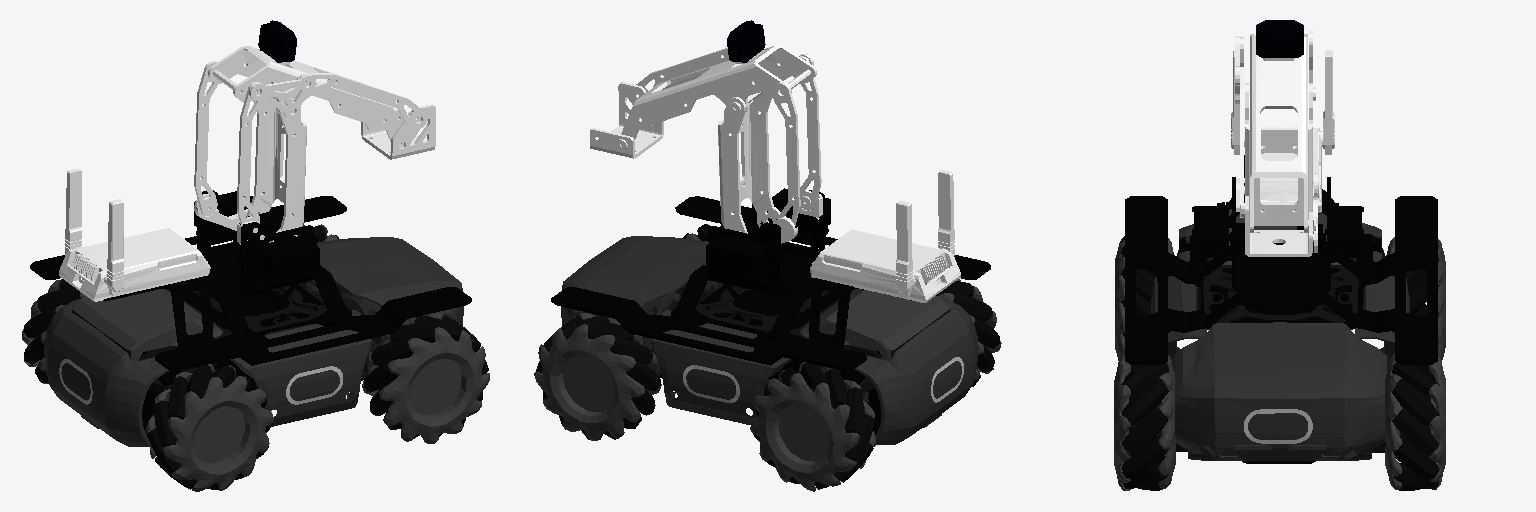
--- What the picture shows (computed from the rendered views, not written in the file) ---
The picture shows the robot from 3 angles, left to right: view 1: azimuth 30°, elevation 25°; view 2: azimuth 150°, elevation 25°; view 3: azimuth 270°, elevation 25°; orthographic projection.
Robot: RoboMaster — 21 links, 20 joints (3 revolute, 13 continuous, 4 fixed); root link robot_base; default pose: all joints at 0.
Visible links, largest first — view 1: robot_base, front_right_wheel_link_respondable, rear_right_wheel_link_respondable, extension_base_link_respondable, arm_base_link_respondable, intelligent_controller_link_respondable, arm_1_link_respondable, arm_2_link_respondable, rear_left_wheel_link_respondable, endpoint_bracket_link_respondable, rod_3_link_respondable, rod_1_link_respondable (+3 smaller); view 2: robot_base, rear_left_wheel_link_respondable, extension_base_link_respondable, front_left_wheel_link_respondable, arm_base_link_respondable, intelligent_controller_link_respondable, arm_2_link_respondable, arm_1_link_respondable, rear_right_wheel_link_respondable, endpoint_bracket_link_respondable, rod_3_link_respondable, rod_2_link_respondable (+2 smaller); view 3: robot_base, extension_base_link_respondable, arm_base_link_respondable, front_right_wheel_link_respondable, front_left_wheel_link_respondable, arm_2_link_respondable, arm_1_link_respondable, intelligent_controller_link_respondable, endpoint_bracket_link_respondable, rear_right_wheel_link_respondable, rear_left_wheel_link_respondable, camera_link_visual (+1 smaller).
Boxes of the visible links, left/top/right/bottom form: robot_base: left=44, top=237, right=463, bottom=446; front_right_wheel_link_respondable: left=362, top=313, right=489, bottom=443; rear_right_wheel_link_respondable: left=146, top=364, right=273, bottom=491; extension_base_link_respondable: left=30, top=196, right=471, bottom=370; arm_base_link_respondable: left=194, top=190, right=351, bottom=340; intelligent_controller_link_respondable: left=59, top=168, right=210, bottom=301; arm_1_link_respondable: left=246, top=98, right=306, bottom=242; arm_2_link_respondable: left=208, top=46, right=403, bottom=147; rear_left_wheel_link_respondable: left=22, top=279, right=85, bottom=383; endpoint_bracket_link_respondable: left=361, top=104, right=435, bottom=159; rod_3_link_respondable: left=194, top=61, right=217, bottom=215; rod_1_link_respondable: left=297, top=73, right=427, bottom=128; robot_base: left=561, top=236, right=978, bottom=444; rear_left_wheel_link_respondable: left=750, top=362, right=875, bottom=491; extension_base_link_respondable: left=551, top=196, right=990, bottom=370; front_left_wheel_link_respondable: left=534, top=313, right=661, bottom=440; arm_base_link_respondable: left=671, top=188, right=830, bottom=340; intelligent_controller_link_respondable: left=810, top=170, right=960, bottom=302; arm_2_link_respondable: left=621, top=45, right=816, bottom=139; arm_1_link_respondable: left=718, top=95, right=787, bottom=233; rear_right_wheel_link_respondable: left=936, top=279, right=1001, bottom=386; endpoint_bracket_link_respondable: left=590, top=82, right=663, bottom=158; rod_3_link_respondable: left=773, top=82, right=800, bottom=225; rod_2_link_respondable: left=800, top=56, right=821, bottom=210; robot_base: left=1133, top=209, right=1422, bottom=463; extension_base_link_respondable: left=1125, top=155, right=1437, bottom=364; arm_base_link_respondable: left=1189, top=177, right=1373, bottom=328; front_right_wheel_link_respondable: left=1114, top=355, right=1175, bottom=490; front_left_wheel_link_respondable: left=1385, top=354, right=1445, bottom=490; arm_2_link_respondable: left=1250, top=34, right=1315, bottom=232; arm_1_link_respondable: left=1230, top=83, right=1312, bottom=254; intelligent_controller_link_respondable: left=1231, top=50, right=1334, bottom=212; endpoint_bracket_link_respondable: left=1245, top=196, right=1315, bottom=256; rear_right_wheel_link_respondable: left=1115, top=236, right=1173, bottom=360; rear_left_wheel_link_respondable: left=1386, top=237, right=1445, bottom=360; camera_link_visual: left=1256, top=20, right=1303, bottom=57.
Size in the robot's own frame: 0.3333 by 0.2456 by 0.341 metres.
Meshes: 52 distinct files referenced, 52 mesh visuals loaded (52 Collada DAE).

The robot description file, URDF, robot "RoboMaster":
<?xml version="1.0"?>
<robot name="RoboMaster">
    <link name="robot_base">
        <inertial>
            <origin xyz="-0.355513 0.124679 0.066029" rpy="-0.000000 -1.570796 0.000000" />
            <inertia ixx="0.017589308201487" ixy="-7.7439198790158e-07" ixz="-4.6110514572507e-05" iyy="0.0051199987327979" iyz="-3.7897668285013e-06" izz="0.01451068068707" />
            <mass value="1.9340000152588" />
        </inertial>
        <collision name="RoboMaster">
            <origin xyz="-0.350000 0.125000 0.067444" rpy="0.000000 -1.570796 0.000000" />
            <geometry>
                <mesh filename="./robomaster_ep_robot_base_coll_1.dae" />
            </geometry>
        </collision>
        <visual name="base_link_visual">
            <origin xyz="-0.350000 0.123093 0.071201" rpy="-0.023726 4.701310 -3.118698" />
            <geometry>
                <mesh filename="./robomaster_ep_base_link_visual_vis_1.dae" />
            </geometry>
            <material name="base_link_visual_material">
                <color rgba="0.227713 0.227713 0.227713 1.0" />
            </material>
        </visual>
        <visual name="base_link_visual">
            <origin xyz="-0.350000 0.123093 0.071201" rpy="-0.023726 4.701310 -3.118698" />
            <geometry>
                <mesh filename="./robomaster_ep_base_link_visual_vis_2.dae" />
            </geometry>
            <material name="base_link_visual_material">
                <color rgba="0.028175 0.028175 0.028175 1.0" />
            </material>
        </visual>
        <visual name="base_link_visual">
            <origin xyz="-0.350000 0.123093 0.071201" rpy="-0.023726 4.701310 -3.118698" />
            <geometry>
                <mesh filename="./robomaster_ep_base_link_visual_vis_3.dae" />
            </geometry>
            <material name="base_link_visual_material">
                <color rgba="0.028175 0.028175 0.028175 1.0" />
            </material>
        </visual>
        <visual name="base_link_visual">
            <origin xyz="-0.350000 0.123093 0.071201" rpy="-0.023726 4.701310 -3.118698" />
            <geometry>
                <mesh filename="./robomaster_ep_base_link_visual_vis_4.dae" />
            </geometry>
            <material name="base_link_visual_material">
                <color rgba="0.028175 0.028175 0.028175 1.0" />
            </material>
        </visual>
        <visual name="base_link_visual">
            <origin xyz="-0.350000 0.123093 0.071201" rpy="-0.023726 4.701310 -3.118698" />
            <geometry>
                <mesh filename="./robomaster_ep_base_link_visual_vis_5.dae" />
            </geometry>
            <material name="base_link_visual_material">
                <color rgba="0.169785 0.169785 0.169785 1.0" />
            </material>
        </visual>
        <visual name="base_link_visual">
            <origin xyz="-0.350000 0.123093 0.071201" rpy="-0.023726 4.701310 -3.118698" />
            <geometry>
                <mesh filename="./robomaster_ep_base_link_visual_vis_6.dae" />
            </geometry>
            <material name="base_link_visual_material">
                <color rgba="0.028175 0.028175 0.028175 1.0" />
            </material>
        </visual>
        <visual name="base_link_visual">
            <origin xyz="-0.350000 0.123093 0.071201" rpy="-0.023726 4.701310 -3.118698" />
            <geometry>
                <mesh filename="./robomaster_ep_base_link_visual_vis_7.dae" />
            </geometry>
            <material name="base_link_visual_material">
                <color rgba="0.098969 0.098969 0.098969 1.0" />
            </material>
        </visual>
        <visual name="base_link_visual">
            <origin xyz="-0.350000 0.123093 0.071201" rpy="-0.023726 4.701310 -3.118698" />
            <geometry>
                <mesh filename="./robomaster_ep_base_link_visual_vis_8.dae" />
            </geometry>
            <material name="base_link_visual_material">
                <color rgba="0.254832 0.254832 0.254832 1.0" />
            </material>
        </visual>
        <visual name="base_link_visual">
            <origin xyz="-0.350000 0.123093 0.071201" rpy="-0.023726 4.701310 -3.118698" />
            <geometry>
                <mesh filename="./robomaster_ep_base_link_visual_vis_9.dae" />
            </geometry>
            <material name="base_link_visual_material">
                <color rgba="0.000000 0.000000 0.000000 1.0" />
            </material>
        </visual>
        <visual name="base_link_visual">
            <origin xyz="-0.350000 0.123093 0.071201" rpy="-0.023726 4.701310 -3.118698" />
            <geometry>
                <mesh filename="./robomaster_ep_base_link_visual_vis_10.dae" />
            </geometry>
            <material name="base_link_visual_material">
                <color rgba="0.098969 0.098969 0.098969 1.0" />
            </material>
        </visual>
        <visual name="base_link_visual">
            <origin xyz="-0.350000 0.123093 0.071201" rpy="-0.023726 4.701310 -3.118698" />
            <geometry>
                <mesh filename="./robomaster_ep_base_link_visual_vis_11.dae" />
            </geometry>
            <material name="base_link_visual_material">
                <color rgba="0.169785 0.169785 0.169785 1.0" />
            </material>
        </visual>
        <visual name="base_link_visual">
            <origin xyz="-0.350000 0.123093 0.071201" rpy="-0.023726 4.701310 -3.118698" />
            <geometry>
                <mesh filename="./robomaster_ep_base_link_visual_vis_12.dae" />
            </geometry>
            <material name="base_link_visual_material">
                <color rgba="0.028175 0.028175 0.028175 1.0" />
            </material>
        </visual>
        <visual name="base_link_visual">
            <origin xyz="-0.350000 0.123093 0.071201" rpy="-0.023726 4.701310 -3.118698" />
            <geometry>
                <mesh filename="./robomaster_ep_base_link_visual_vis_13.dae" />
            </geometry>
            <material name="base_link_visual_material">
                <color rgba="0.098113 0.098113 0.098113 1.0" />
            </material>
        </visual>
        <visual name="front_hit_sensor_link_visual">
            <origin xyz="-0.195117 0.124491 0.077526" rpy="-1.570858 3.156556 0.000403" />
            <geometry>
                <mesh filename="./robomaster_ep_front_hit_sensor_link_visual_vis_1.dae" />
            </geometry>
            <material name="front_hit_sensor_link_visual_material">
                <color rgba="0.169785 0.169785 0.169785 1.0" />
            </material>
        </visual>
        <visual name="front_led_link_visual">
            <origin xyz="-0.183659 0.123334 0.077340" rpy="-1.570776 3.151230 3.140798" />
            <geometry>
                <mesh filename="./robomaster_ep_front_led_link_visual_vis_1.dae" />
            </geometry>
            <material name="front_led_link_visual_material">
                <color rgba="0.780000 0.777358 0.777358 1.0" />
            </material>
        </visual>
        <visual name="left_hit_sensor_link_visual">
            <origin xyz="-0.352040 0.210820 0.066425" rpy="1.555835 3.141586 1.571201" />
            <geometry>
                <mesh filename="./robomaster_ep_left_hit_sensor_link_visual_vis_1.dae" />
            </geometry>
            <material name="left_hit_sensor_link_visual_material">
                <color rgba="0.169785 0.169785 0.169785 1.0" />
            </material>
        </visual>
        <visual name="left_led_link_visual">
            <origin xyz="-0.353518 0.221630 0.066595" rpy="1.558170 3.174514 1.571616" />
            <geometry>
                <mesh filename="./robomaster_ep_left_led_link_visual_vis_1.dae" />
            </geometry>
            <material name="left_led_link_visual_material">
                <color rgba="0.780000 0.777358 0.777358 1.0" />
            </material>
        </visual>
        <visual name="rear_hit_sensor_link_visual">
            <origin xyz="-0.505119 0.122010 0.069243" rpy="1.570860 3.126629 -3.141188" />
            <geometry>
                <mesh filename="./robomaster_ep_rear_hit_sensor_link_visual_vis_1.dae" />
            </geometry>
            <material name="rear_hit_sensor_link_visual_material">
                <color rgba="0.169785 0.169785 0.169785 1.0" />
            </material>
        </visual>
        <visual name="rear_led_link_visual">
            <origin xyz="-0.515956 0.124106 0.069047" rpy="-1.570639 3.191801 -0.000609" />
            <geometry>
                <mesh filename="./robomaster_ep_rear_led_link_visual_vis_1.dae" />
            </geometry>
            <material name="rear_led_link_visual_material">
                <color rgba="0.780000 0.777358 0.777358 1.0" />
            </material>
        </visual>
        <visual name="right_hit_sensor_link_visual">
            <origin xyz="-0.351971 0.040685 0.066414" rpy="1.555835 3.141586 1.571201" />
            <geometry>
                <mesh filename="./robomaster_ep_right_hit_sensor_link_visual_vis_1.dae" />
            </geometry>
            <material name="right_hit_sensor_link_visual_material">
                <color rgba="0.169785 0.169785 0.169785 1.0" />
            </material>
        </visual>
        <visual name="right_led_link_visual">
            <origin xyz="-0.351984 0.027039 0.066579" rpy="-1.586849 3.142395 1.571214" />
            <geometry>
                <mesh filename="./robomaster_ep_right_led_link_visual_vis_1.dae" />
            </geometry>
            <material name="right_led_link_visual_material">
                <color rgba="0.780000 0.777358 0.777358 1.0" />
            </material>
        </visual>
        <visual name="GyroSensor">
            <origin xyz="-0.350000 0.125000 0.067444" rpy="-3.141593 3.141593 -3.141593" />
            <geometry>
                <mesh filename="./robomaster_ep_GyroSensor_vis_1.dae" />
            </geometry>
            <material name="GyroSensor_material">
                <color rgba="0.676471 0.323529 0.323529 1.0" />
            </material>
        </visual>
        <visual name="Accelerometer">
            <origin xyz="-0.350000 0.125000 0.067444" rpy="-3.141593 3.141593 -3.141593" />
            <geometry>
                <mesh filename="./robomaster_ep_Accelerometer_vis_1.dae" />
            </geometry>
            <material name="Accelerometer_material">
                <color rgba="0.323529 0.323529 0.676471 1.0" />
            </material>
        </visual>
    </link>
    <joint type="fixed" name="arm_base_attachment_joint">
        <axis xyz="0 0 1" />
        <parent link="robot_base" />
        <child link="arm_base_link_respondable" />
        <origin xyz="-0.348720 0.125830 0.127151" rpy="-0.004234 1.585757 -0.003830" />
    </joint>
    <link name="arm_base_link_respondable">
        <inertial>
            <origin xyz="0.000000 0.000000 -0.000000" rpy="1.570799 3.141592 -0.010468" />
            <inertia ixx="0.00072019468651553" ixy="-2.9647946187585e-11" ixz="-1.8631618966786e-05" iyy="0.0022999993508077" iyz="5.7190505382992e-10" izz="0.0024997998783834" />
            <mass value="0.30000001192093" />
        </inertial>
        <collision name="arm_base_link_respondable">
            <origin xyz="-0.010620 -0.000534 -0.002359" rpy="1.570799 3.141592 -0.010468" />
            <geometry>
                <mesh filename="./robomaster_ep_arm_base_link_respondable_coll_1.dae" />
            </geometry>
        </collision>
        <visual name="arm_base_link_visual">
            <origin xyz="-0.017503 0.000081 -0.001144" rpy="1.571034 3.145504 -0.000324" />
            <geometry>
                <mesh filename="./robomaster_ep_arm_base_link_visual_vis_1.dae" />
            </geometry>
            <material name="arm_base_link_visual_material">
                <color rgba="0.028175 0.028000 0.028175 1.0" />
            </material>
        </visual>
        <visual name="arm_base_link_visual">
            <origin xyz="-0.017503 0.000081 -0.001144" rpy="1.571034 3.145504 -0.000324" />
            <geometry>
                <mesh filename="./robomaster_ep_arm_base_link_visual_vis_2.dae" />
            </geometry>
            <material name="arm_base_link_visual_material">
                <color rgba="1.000000 1.000000 1.000000 1.0" />
            </material>
        </visual>
        <visual name="arm_base_link_visual">
            <origin xyz="-0.017503 0.000081 -0.001144" rpy="1.571034 3.145504 -0.000324" />
            <geometry>
                <mesh filename="./robomaster_ep_arm_base_link_visual_vis_3.dae" />
            </geometry>
            <material name="arm_base_link_visual_material">
                <color rgba="0.028175 0.028000 0.028175 1.0" />
            </material>
        </visual>
        <visual name="arm_base_link_visual">
            <origin xyz="-0.017503 0.000081 -0.001144" rpy="1.571034 3.145504 -0.000324" />
            <geometry>
                <mesh filename="./robomaster_ep_arm_base_link_visual_vis_4.dae" />
            </geometry>
            <material name="arm_base_link_visual_material">
                <color rgba="0.028175 0.028000 0.028175 1.0" />
            </material>
        </visual>
    </link>
    <joint type="revolute" name="servo_motor_1">
        <axis xyz="0 0 1" />
        <limit effort="1000.0" lower="-0.27401667833328" velocity="5.1312680244446" upper="1.3840461373329" />
        <parent link="arm_base_link_respondable" />
        <child link="arm_1_link_respondable" />
        <origin xyz="-0.030741 -0.025571 0.010396" rpy="-1.570797 -1.570796 0.000000" />
    </joint>
    <link name="arm_1_link_respondable">
        <inertial>
            <origin xyz="-0.000559 -0.001173 0.023592" rpy="1.570958 3.142942 0.060996" />
            <inertia ixx="0.015559326757555" ixy="0.00016358625834718" ixz="-0.00084468883193591" iyy="0.016156487726318" iyz="0.0022918940812945" izz="0.0018599644109959" />
            <mass value="0.056000001728535" />
        </inertial>
        <collision name="arm_1_link_respondable">
            <origin xyz="0.006169 -0.058604 0.023587" rpy="1.570958 3.142942 0.060996" />
            <geometry>
                <mesh filename="./robomaster_ep_arm_1_link_respondable_coll_1.dae" />
            </geometry>
        </collision>
        <visual name="arm_1_link_visual">
            <origin xyz="0.006175 -0.058501 0.018013" rpy="-1.570551 3.144842 0.056227" />
            <geometry>
                <mesh filename="./robomaster_ep_arm_1_link_visual_vis_1.dae" />
            </geometry>
            <material name="arm_1_link_visual_material">
                <color rgba="0.028175 0.028000 0.028175 1.0" />
            </material>
        </visual>
        <visual name="arm_1_link_visual">
            <origin xyz="0.006175 -0.058501 0.018013" rpy="-1.570551 3.144842 0.056227" />
            <geometry>
                <mesh filename="./robomaster_ep_arm_1_link_visual_vis_2.dae" />
            </geometry>
            <material name="arm_1_link_visual_material">
                <color rgba="1.000000 1.000000 1.000000 1.0" />
            </material>
        </visual>
    </link>
    <joint type="continuous" name="arm_2_link">
        <axis xyz="0 0 1" />
        <parent link="arm_1_link_respondable" />
        <child link="arm_2_link_respondable" />
        <origin xyz="0.001870 -0.121024 0.043866" rpy="-3.141593 3.141593 3.141593" />
    </joint>
    <link name="arm_2_link_respondable">
        <collision name="arm_2_link_respondable">
            <origin xyz="0.037006 0.006990 -0.020273" rpy="1.571916 3.141590 2.055180" />
            <geometry>
                <mesh filename="./robomaster_ep_arm_2_link_respondable_coll_1.dae" />
            </geometry>
        </collision>
        <visual name="arm_2_link_visual">
            <origin xyz="0.038093 0.004886 -0.017408" rpy="1.570603 3.141592 2.056293" />
            <geometry>
                <mesh filename="./robomaster_ep_arm_2_link_visual_vis_1.dae" />
            </geometry>
            <material name="arm_2_link_visual_material">
                <color rgba="1.000000 1.000000 1.000000 1.0" />
            </material>
        </visual>
        <visual name="arm_2_link_visual">
            <origin xyz="0.038093 0.004886 -0.017408" rpy="1.570603 3.141592 2.056293" />
            <geometry>
                <mesh filename="./robomaster_ep_arm_2_link_visual_vis_2.dae" />
            </geometry>
            <material name="arm_2_link_visual_material">
                <color rgba="1.000000 1.000000 1.000000 1.0" />
            </material>
        </visual>
        <visual name="arm_2_link_visual">
            <origin xyz="0.038093 0.004886 -0.017408" rpy="1.570603 3.141592 2.056293" />
            <geometry>
                <mesh filename="./robomaster_ep_arm_2_link_visual_vis_3.dae" />
            </geometry>
            <material name="arm_2_link_visual_material">
                <color rgba="1.000000 1.000000 1.000000 1.0" />
            </material>
        </visual>
    </link>
    <joint type="continuous" name="endpoint_bracket_link">
        <axis xyz="0 0 1" />
        <parent link="arm_2_link_respondable" />
        <child link="endpoint_bracket_link_respondable" />
        <origin xyz="0.105856 0.056109 0.006752" rpy="3.141593 3.141593 -3.141593" />
    </joint>
    <link name="endpoint_bracket_link_respondable">
        <collision name="endpoint_bracket_link_respondable">
            <origin xyz="0.010956 -0.008580 -0.026963" rpy="3.141592 3.141493 -3.141144" />
            <geometry>
                <mesh filename="./robomaster_ep_endpoint_bracket_link_respondable_coll_1.dae" />
            </geometry>
        </collision>
        <visual name="endpoint_bracket_link_visual">
            <origin xyz="0.011018 -0.008561 -0.025835" rpy="3.141592 3.141494 -3.141146" />
            <geometry>
                <mesh filename="./robomaster_ep_endpoint_bracket_link_visual_vis_1.dae" />
            </geometry>
            <material name="endpoint_bracket_link_visual_material">
                <color rgba="1.000000 1.000000 1.000000 1.0" />
            </material>
        </visual>
    </link>
    <joint type="continuous" name="rod_1_link">
        <axis xyz="0 0 1" />
        <parent link="endpoint_bracket_link_respondable" />
        <child link="rod_1_link_respondable" />
        <origin xyz="0.013458 -0.021307 -0.054097" rpy="-3.141593 3.141593 3.120300" />
    </joint>
    <link name="rod_1_link_respondable">
        <collision name="rod_1_link_respondable">
            <origin xyz="-0.050842 -0.031213 0.000000" rpy="-1.118678 4.712385 -1.517352" />
            <geometry>
                <mesh filename="./robomaster_ep_rod_1_link_respondable_coll_1.dae" />
            </geometry>
        </collision>
        <visual name="rod_1_link_visual">
            <origin xyz="-0.050750 -0.031179 -0.000002" rpy="0.488407 4.712387 -3.123125" />
            <geometry>
                <mesh filename="./robomaster_ep_rod_1_link_visual_vis_1.dae" />
            </geometry>
            <material name="rod_1_link_visual_material">
                <color rgba="1.000000 1.000000 1.000000 1.0" />
            </material>
        </visual>
    </link>
    <joint type="fixed" name="camera_attach">
        <axis xyz="0 0 1" />
        <parent link="arm_2_link_respondable" />
        <child link="camera_link_visual" />
        <origin xyz="0.004019 -0.034011 -0.020260" rpy="-1.570796 3.141593 -3.001966" />
    </joint>
    <link name="camera_link_visual">
        <visual name="camera_link_visual">
            <origin xyz="-0.000648 0.000667 0.013564" rpy="1.570796 3.124139 0.000000" />
            <geometry>
                <mesh filename="./robomaster_ep_camera_link_visual_vis_1.dae" />
            </geometry>
            <material name="camera_link_visual_material">
                <color rgba="0.020166 0.011713 0.029923 1.0" />
            </material>
        </visual>
    </link>
    <joint type="continuous" name="triangle_link">
        <axis xyz="0 0 1" />
        <parent link="arm_1_link_respondable" />
        <child link="triangle_link_respondable" />
        <origin xyz="0.002022 -0.121233 -0.007103" rpy="-3.141592 3.141593 -2.891312" />
    </joint>
    <link name="triangle_link_respondable">
        <collision name="triangle_link_respondable">
            <origin xyz="-0.014028 -0.018759 0.000005" rpy="-1.954402 1.571449 1.570213" />
            <geometry>
                <mesh filename="./robomaster_ep_triangle_link_respondable_coll_1.dae" />
            </geometry>
        </collision>
        <visual name="triangle_link_visual">
            <origin xyz="-0.014063 -0.018900 0.000005" rpy="-1.953610 1.571449 1.570500" />
            <geometry>
                <mesh filename="./robomaster_ep_triangle_link_visual_vis_1.dae" />
            </geometry>
            <material name="triangle_link_visual_material">
                <color rgba="1.000000 1.000000 1.000000 1.0" />
            </material>
        </visual>
    </link>
    <joint type="continuous" name="rod_2_link">
        <axis xyz="0 0 1" />
        <parent link="arm_base_link_respondable" />
        <child link="rod_2_link_respondable" />
        <origin xyz="-0.055478 -0.029070 -0.022428" rpy="-1.570813 4.702964 0.000017" />
    </joint>
    <link name="rod_2_link_respondable">
        <collision name="rod_2_link_respondable">
            <origin xyz="-0.000690 -0.059576 -0.000000" rpy="3.028820 1.570851 1.491040" />
            <geometry>
                <mesh filename="./robomaster_ep_rod_2_link_respondable_coll_1.dae" />
            </geometry>
        </collision>
        <visual name="rod_2_link_visual">
            <origin xyz="-0.000702 -0.059522 0.000000" rpy="3.104893 1.570853 1.566134" />
            <geometry>
                <mesh filename="./robomaster_ep_rod_2_link_visual_vis_1.dae" />
            </geometry>
            <material name="rod_2_link_visual_material">
                <color rgba="1.000000 1.000000 1.000000 1.0" />
            </material>
        </visual>
    </link>
    <joint type="revolute" name="servo_motor_0">
        <axis xyz="0 0 1" />
        <limit effort="1000.0" lower="-0.79936075210571" velocity="5.1312680244446" upper="5.4838247299194" />
        <parent link="arm_base_link_respondable" />
        <child link="rod_link_respondable" />
        <origin xyz="-0.031923 0.021424 0.009805" rpy="-1.570797 -1.570796 0.000000" />
    </joint>
    <link name="rod_link_respondable">
        <inertial>
            <origin xyz="-0.000081 -0.000086 0.002379" rpy="-2.649286 -1.570796 0.000000" />
            <inertia ixx="0.00020289999408998" ixy="0.0003023547012067" ixz="-0.00016216980880584" iyy="0.00075754317529392" iyz="8.1931339617662e-05" izz="0.00086635430723312" />
            <mass value="0.010999999940395" />
        </inertial>
        <collision name="rod_link_respondable">
            <origin xyz="-0.020399 -0.011337 0.002379" rpy="-2.649286 -1.570796 0.000000" />
            <geometry>
                <mesh filename="./robomaster_ep_rod_link_respondable_coll_1.dae" />
            </geometry>
        </collision>
        <visual name="rod_link_visual">
            <origin xyz="-0.020597 -0.011197 0.001658" rpy="-1.092504 4.712387 1.610207" />
            <geometry>
                <mesh filename="./robomaster_ep_rod_link_visual_vis_1.dae" />
            </geometry>
            <material name="rod_link_visual_material">
                <color rgba="1.000000 1.000000 1.000000 1.0" />
            </material>
        </visual>
    </link>
    <joint type="revolute" name="rod_3_link">
        <axis xyz="0 0 1" />
        <limit effort="1000.0" lower="-0.34732049703598" velocity="3.1415927410126" upper="1.2147491574287" />
        <parent link="rod_link_respondable" />
        <child link="rod_3_link_respondable" />
        <origin xyz="-0.042397 -0.022313 0.000453" rpy="-3.141593 3.141593 3.141593" />
    </joint>
    <link name="rod_3_link_respondable">
        <inertial>
            <origin xyz="-0.000357 -0.000168 0.000010" rpy="3.107216 1.570851 1.559078" />
            <inertia ixx="0.0058869943594265" ixy="4.3079325159261e-07" ixz="-1.9013833819694e-05" iyy="0.0059170696757544" iyz="0.00013330729820632" izz="3.7523029161263e-05" />
            <mass value="0.012000000104308" />
        </inertial>
        <collision name="rod_3_link_respondable">
            <origin xyz="-0.001156 -0.060516 0.000009" rpy="3.107216 1.570851 1.559078" />
            <geometry>
                <mesh filename="./robomaster_ep_rod_3_link_respondable_coll_1.dae" />
            </geometry>
        </collision>
        <visual name="rod_3_link_visual">
            <origin xyz="-0.001198 -0.060431 -0.000001" rpy="3.115884 1.570852 1.564259" />
            <geometry>
                <mesh filename="./robomaster_ep_rod_3_link_visual_vis_1.dae" />
            </geometry>
            <material name="rod_3_link_visual_material">
                <color rgba="1.000000 1.000000 1.000000 1.0" />
            </material>
        </visual>
    </link>
    <joint type="fixed" name="extension_base_joint">
        <axis xyz="0 0 1" />
        <parent link="robot_base" />
        <child link="extension_base_link_respondable" />
        <origin xyz="-0.358214 0.125838 0.107186" rpy="-0.004234 1.585757 -0.003830" />
    </joint>
    <link name="extension_base_link_respondable">
        <inertial>
            <origin xyz="-0.004310 -0.000011 0.004419" rpy="-0.000000 3.141593 0.000000" />
            <inertia ixx="0.0022399987531521" ixy="-1.9554282664526e-11" ixz="-2.0007677998689e-19" iyy="0.00091999895372175" iyz="-5.9663003559816e-14" izz="0.0013300013470108" />
            <mass value="0.21999999880791" />
        </inertial>
        <collision name="extension_base_link_respondable">
            <origin xyz="-0.004310 -0.000011 0.004419" rpy="0.000000 -1.570796 0.000000" />
            <geometry>
                <box size="0.279694 0.231779 0.013000" />
            </geometry>
        </collision>
        <collision name="extension_base_link_respondable">
            <origin xyz="-0.039066 0.000021 -0.100668" rpy="0.000000 -1.570796 0.000000" />
            <geometry>
                <box size="0.104444 0.045000 0.002000" />
            </geometry>
        </collision>
        <visual name="extension_base_link_visual">
            <origin xyz="-0.015552 -0.000011 -0.004337" rpy="0.000235 3.145476 -0.000324" />
            <geometry>
                <mesh filename="./robomaster_ep_extension_base_link_visual_vis_1.dae" />
            </geometry>
            <material name="extension_base_link_visual_material">
                <color rgba="0.028175 0.028000 0.028175 1.0" />
            </material>
        </visual>
        <visual name="extension_base_link_visual">
            <origin xyz="-0.015552 -0.000011 -0.004337" rpy="0.000235 3.145476 -0.000324" />
            <geometry>
                <mesh filename="./robomaster_ep_extension_base_link_visual_vis_2.dae" />
            </geometry>
            <material name="extension_base_link_visual_material">
                <color rgba="0.028175 0.028000 0.028175 1.0" />
            </material>
        </visual>
    </link>
    <joint type="continuous" name="front_left_wheel_joint">
        <axis xyz="0 0 1" />
        <parent link="robot_base" />
        <child link="front_left_wheel_link_respondable" />
        <origin xyz="-0.249897 0.224836 0.050372" rpy="1.570859 3.126631 -3.141188" />
    </joint>
    <link name="front_left_wheel_link_respondable">
        <inertial>
            <origin xyz="-0.000210 0.000415 0.000053" rpy="-1.570796 3.141593 3.141592" />
            <inertia ixx="0.00019999955699974" ixy="1.1641466120195e-14" ixz="-5.9837115865974e-13" iyy="0.00012000005669357" iyz="-8.7074804302154e-23" izz="0.00012000005669357" />
            <mass value="0.16200000047684" />
        </inertial>
        <collision name="front_left_wheel_link_respondable">
            <origin xyz="0.000000 -0.000000 -0.000000" rpy="-1.570796 3.141593 3.141592" />
            <geometry>
                <sphere radius="0.025000000372529" />
            </geometry>
        </collision>
        <visual name="front_left_wheel_link_visual">
            <origin xyz="-0.000227 0.000356 0.000053" rpy="2.815621 1.571451 1.570543" />
            <geometry>
                <mesh filename="./robomaster_ep_front_left_wheel_link_visual_vis_1.dae" />
            </geometry>
            <material name="front_left_wheel_link_visual_material">
                <color rgba="0.273909 0.273909 0.273909 1.0" />
            </material>
        </visual>
        <visual name="front_left_wheel_link_visual">
            <origin xyz="-0.000227 0.000356 0.000053" rpy="2.815621 1.571451 1.570543" />
            <geometry>
                <mesh filename="./robomaster_ep_front_left_wheel_link_visual_vis_2.dae" />
            </geometry>
            <material name="front_left_wheel_link_visual_material">
                <color rgba="0.064010 0.064010 0.064010 1.0" />
            </material>
        </visual>
    </link>
    <joint type="continuous" name="front_left_wheel_inner_joint">
        <axis xyz="0 0 1" />
        <parent link="front_left_wheel_link_respondable" />
        <child link="front_left_wheel_inner_link_respondable" />
        <origin xyz="0.000000 -0.000000 -0.000000" rpy="-2.526113 3.665191 2.186276" />
    </joint>
    <link name="front_left_wheel_inner_link_respondable">
        <inertial>
            <origin xyz="-0.000442 0.000144 0.000053" rpy="-1.570796 2.356195 -2.356195" />
            <inertia ixx="1.0000000251457e-05" ixy="1.8305675243518e-31" ixz="-7.9522146391448e-30" iyy="1.0000000251457e-05" iyz="1.6871276897786e-29" izz="1.0000000251457e-05" />
            <mass value="0.0099999997764826" />
        </inertial>
        <collision name="front_left_wheel_inner_link_respondable">
            <origin xyz="-0.000442 0.000144 0.000053" rpy="-1.570796 2.356195 -2.356195" />
            <geometry>
                <sphere radius="0.050000000745058" />
            </geometry>
        </collision>
    </link>
    <joint type="continuous" name="front_right_wheel_joint">
        <axis xyz="0 0 1" />
        <parent link="robot_base" />
        <child link="front_right_wheel_link_respondable" />
        <origin xyz="-0.249816 0.024836 0.050359" rpy="1.570859 3.126631 -3.141188" />
    </joint>
    <link name="front_right_wheel_link_respondable">
        <inertial>
            <origin xyz="0.000224 0.000097 -0.000135" rpy="-1.570796 3.141593 3.141592" />
            <inertia ixx="0.00019999955699974" ixy="1.1641466120195e-14" ixz="-5.9837115865974e-13" iyy="0.00012000005669357" iyz="-8.7074804302154e-23" izz="0.00012000005669357" />
            <mass value="0.16200000047684" />
        </inertial>
        <collision name="front_right_wheel_link_respondable">
            <origin xyz="-0.000000 -0.000000 -0.000000" rpy="-1.570796 3.141593 3.141592" />
            <geometry>
                <sphere radius="0.025000000372529" />
            </geometry>
        </collision>
        <visual name="front_right_wheel_link_visual">
            <origin xyz="0.000299 -0.000095 -0.000120" rpy="-2.453966 1.572337 2.544490" />
            <geometry>
                <mesh filename="./robomaster_ep_front_right_wheel_link_visual_vis_1.dae" />
            </geometry>
            <material name="front_right_wheel_link_visual_material">
                <color rgba="0.064010 0.064010 0.064010 1.0" />
            </material>
        </visual>
        <visual name="front_right_wheel_link_visual">
            <origin xyz="0.000299 -0.000095 -0.000120" rpy="-2.453966 1.572337 2.544490" />
            <geometry>
                <mesh filename="./robomaster_ep_front_right_wheel_link_visual_vis_2.dae" />
            </geometry>
            <material name="front_right_wheel_link_visual_material">
                <color rgba="0.273909 0.273909 0.273909 1.0" />
            </material>
        </visual>
    </link>
    <joint type="continuous" name="front_right_wheel_inner_joint">
        <axis xyz="0 0 1" />
        <parent link="front_right_wheel_link_respondable" />
        <child link="front_right_wheel_inner_link_respondable" />
        <origin xyz="-0.000000 -0.000000 -0.000000" rpy="-0.615480 2.617994 2.186276" />
    </joint>
    <link name="front_right_wheel_inner_link_respondable">
        <inertial>
            <origin xyz="0.000248 -0.000111 0.000063" rpy="1.570796 2.356194 2.356194" />
            <inertia ixx="1.0000000251457e-05" ixy="1.8305675243518e-31" ixz="-7.9522146391448e-30" iyy="1.0000000251457e-05" iyz="1.6871276897786e-29" izz="1.0000000251457e-05" />
            <mass value="0.0099999997764826" />
        </inertial>
        <collision name="front_right_wheel_inner_link_respondable">
            <origin xyz="0.000248 -0.000111 0.000063" rpy="1.570796 2.356194 2.356194" />
            <geometry>
                <sphere radius="0.050000000745058" />
            </geometry>
        </collision>
    </link>
    <joint type="fixed" name="intelligent_controller_joint">
        <axis xyz="0 0 1" />
        <parent link="robot_base" />
        <child link="intelligent_controller_link_respondable" />
        <origin xyz="-0.482905 0.127221 0.171416" rpy="-0.004234 1.585757 -0.003830" />
    </joint>
    <link name="intelligent_controller_link_respondable">
        <inertial>
            <origin xyz="-0.000000 0.000000 0.000000" rpy="0.000000 -1.570796 0.000000" />
            <inertia ixx="0.0010000007156864" ixy="1.1023513752748e-29" ixz="-2.0247384601913e-27" iyy="0.0010000007156864" iyz="-1.8605488208292e-27" izz="0.0010000007156864" />
            <mass value="0.093000002205372" />
        </inertial>
        <collision name="intelligent_controller_link_respondable">
            <origin xyz="0.011384 -0.000020 0.023166" rpy="0.000000 -1.570796 0.000000" />
            <geometry>
                <box size="0.108973 0.059103 0.022915" />
            </geometry>
        </collision>
        <visual name="intelligent_controller_link_visual">
            <origin xyz="-0.021132 -0.000326 0.023085" rpy="3.139521 3.141593 -1.570763" />
            <geometry>
                <mesh filename="./robomaster_ep_intelligent_controller_link_visual_vis_1.dae" />
            </geometry>
            <material name="intelligent_controller_link_visual_material">
                <color rgba="1.000000 1.000000 1.000000 1.0" />
            </material>
        </visual>
        <visual name="intelligent_controller_link_visual">
            <origin xyz="-0.021132 -0.000326 0.023085" rpy="3.139521 3.141593 -1.570763" />
            <geometry>
                <mesh filename="./robomaster_ep_intelligent_controller_link_visual_vis_2.dae" />
            </geometry>
            <material name="intelligent_controller_link_visual_material">
                <color rgba="1.000000 1.000000 1.000000 1.0" />
            </material>
        </visual>
        <visual name="intelligent_controller_link_visual">
            <origin xyz="-0.021132 -0.000326 0.023085" rpy="3.139521 3.141593 -1.570763" />
            <geometry>
                <mesh filename="./robomaster_ep_intelligent_controller_link_visual_vis_3.dae" />
            </geometry>
            <material name="intelligent_controller_link_visual_material">
                <color rgba="1.000000 1.000000 1.000000 1.0" />
            </material>
        </visual>
    </link>
    <joint type="continuous" name="rear_left_wheel_joint">
        <axis xyz="0 0 1" />
        <parent link="robot_base" />
        <child link="rear_left_wheel_link_respondable" />
        <origin xyz="-0.449875 0.224755 0.053364" rpy="1.570859 3.126631 -3.141188" />
    </joint>
    <link name="rear_left_wheel_link_respondable">
        <inertial>
            <origin xyz="-0.000257 -0.000323 -0.000094" rpy="-1.570796 3.141593 3.141592" />
            <inertia ixx="0.00019999955699974" ixy="1.1641466120195e-14" ixz="-5.9837115865974e-13" iyy="0.00012000005669357" iyz="-8.7074804302154e-23" izz="0.00012000005669357" />
            <mass value="0.16200000047684" />
        </inertial>
        <collision name="rear_left_wheel_link_respondable">
            <origin xyz="0.000000 -0.000000 0.000000" rpy="-1.570796 3.141593 3.141592" />
            <geometry>
                <sphere radius="0.025000000372529" />
            </geometry>
        </collision>
        <visual name="rear_left_wheel_link_visual">
            <origin xyz="-0.000254 -0.000220 -0.000095" rpy="3.110271 1.571449 1.570639" />
            <geometry>
                <mesh filename="./robomaster_ep_rear_left_wheel_link_visual_vis_1.dae" />
            </geometry>
            <material name="rear_left_wheel_link_visual_material">
                <color rgba="0.064010 0.064010 0.064010 1.0" />
            </material>
        </visual>
        <visual name="rear_left_wheel_link_visual">
            <origin xyz="-0.000254 -0.000220 -0.000095" rpy="3.110271 1.571449 1.570639" />
            <geometry>
                <mesh filename="./robomaster_ep_rear_left_wheel_link_visual_vis_2.dae" />
            </geometry>
            <material name="rear_left_wheel_link_visual_material">
                <color rgba="0.273909 0.273909 0.273909 1.0" />
            </material>
        </visual>
    </link>
    <joint type="continuous" name="rear_left_wheel_inner_joint">
        <axis xyz="0 0 1" />
        <parent link="rear_left_wheel_link_respondable" />
        <child link="rear_left_wheel_inner_link_respondable" />
        <origin xyz="0.000000 -0.000000 0.000000" rpy="-2.526112 2.617994 -2.186276" />
    </joint>
    <link name="rear_left_wheel_inner_link_respondable">
        <inertial>
            <origin xyz="-0.000310 -0.000147 -0.000248" rpy="-1.570796 3.926991 2.356194" />
            <inertia ixx="1.0000000251457e-05" ixy="1.8305675243518e-31" ixz="-7.9522146391448e-30" iyy="1.0000000251457e-05" iyz="1.6871276897786e-29" izz="1.0000000251457e-05" />
            <mass value="0.0099999997764826" />
        </inertial>
        <collision name="rear_left_wheel_inner_link_respondable">
            <origin xyz="-0.000310 -0.000147 -0.000248" rpy="-1.570796 3.926991 2.356194" />
            <geometry>
                <sphere radius="0.050000000745058" />
            </geometry>
        </collision>
    </link>
    <joint type="continuous" name="rear_right_wheel_joint">
        <axis xyz="0 0 1" />
        <parent link="robot_base" />
        <child link="rear_right_wheel_link_respondable" />
        <origin xyz="-0.449794 0.024755 0.053351" rpy="1.570859 3.126631 -3.141188" />
    </joint>
    <link name="rear_right_wheel_link_respondable">
        <inertial>
            <origin xyz="-0.000131 -0.000202 0.000195" rpy="-1.570796 3.141593 3.141592" />
            <inertia ixx="0.00019999955699974" ixy="1.1641466120195e-14" ixz="-5.9837115865974e-13" iyy="0.00012000005669357" iyz="-8.7074804302154e-23" izz="0.00012000005669357" />
            <mass value="0.16200000047684" />
        </inertial>
        <collision name="rear_right_wheel_link_respondable">
            <origin xyz="0.000000 0.000000 0.000000" rpy="-1.570796 3.141593 3.141592" />
            <geometry>
                <sphere radius="0.025000000372529" />
            </geometry>
        </collision>
        <visual name="rear_right_wheel_link_visual">
            <origin xyz="-0.000125 -0.000190 0.000195" rpy="2.812002 1.571451 1.571450" />
            <geometry>
                <mesh filename="./robomaster_ep_rear_right_wheel_link_visual_vis_1.dae" />
            </geometry>
            <material name="rear_right_wheel_link_visual_material">
                <color rgba="0.064010 0.064010 0.064010 1.0" />
            </material>
        </visual>
        <visual name="rear_right_wheel_link_visual">
            <origin xyz="-0.000125 -0.000190 0.000195" rpy="2.812002 1.571451 1.571450" />
            <geometry>
                <mesh filename="./robomaster_ep_rear_right_wheel_link_visual_vis_2.dae" />
            </geometry>
            <material name="rear_right_wheel_link_visual_material">
                <color rgba="0.273909 0.273909 0.273909 1.0" />
            </material>
        </visual>
    </link>
    <joint type="continuous" name="rear_right_wheel_inner_joint">
        <axis xyz="0 0 1" />
        <parent link="rear_right_wheel_link_respondable" />
        <child link="rear_right_wheel_inner_link_respondable" />
        <origin xyz="0.000000 0.000000 0.000000" rpy="-0.615479 3.665192 -2.186276" />
    </joint>
    <link name="rear_right_wheel_inner_link_respondable">
        <inertial>
            <origin xyz="0.000050 -0.000236 0.000195" rpy="1.570796 3.926991 -2.356194" />
            <inertia ixx="1.0000000251457e-05" ixy="1.8305675243518e-31" ixz="-7.9522146391448e-30" iyy="1.0000000251457e-05" iyz="1.6871276897786e-29" izz="1.0000000251457e-05" />
            <mass value="0.0099999997764826" />
        </inertial>
        <collision name="rear_right_wheel_inner_link_respondable">
            <origin xyz="0.000050 -0.000236 0.000195" rpy="1.570796 3.926991 -2.356194" />
            <geometry>
                <sphere radius="0.050000000745058" />
            </geometry>
        </collision>
    </link>
</robot>
